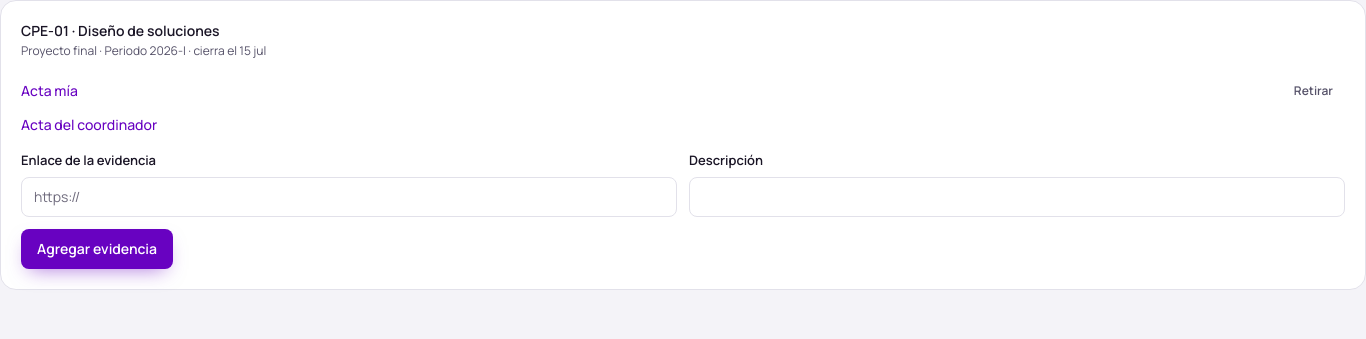
TarjetaEvaluacion — foco y confirmación › el error de un retiro anterior se quita al abrir otra confirmación
Click the button with aria-label "Retirar Acta mía" at (1313, 91), box x1=1282 y1=75 x2=1345 y2=107
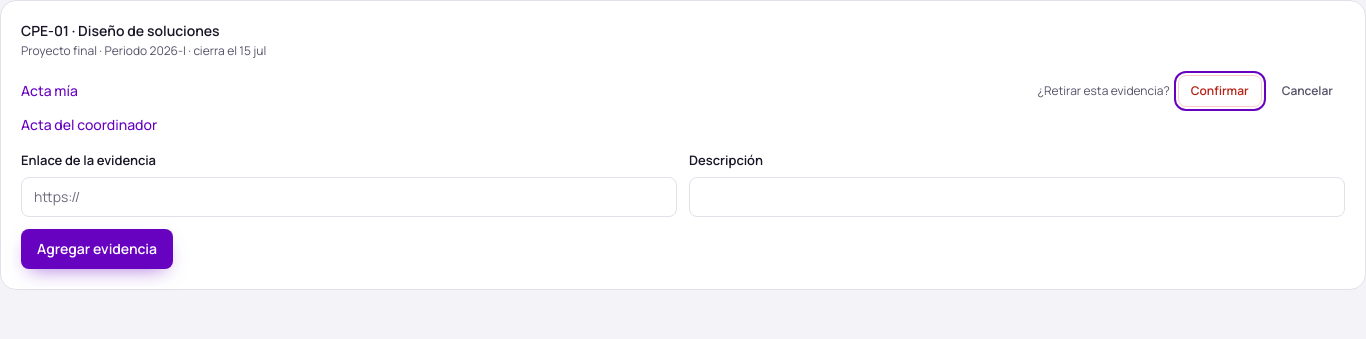
Click the button "Confirmar" at (1220, 91), box x1=1178 y1=75 x2=1262 y2=107
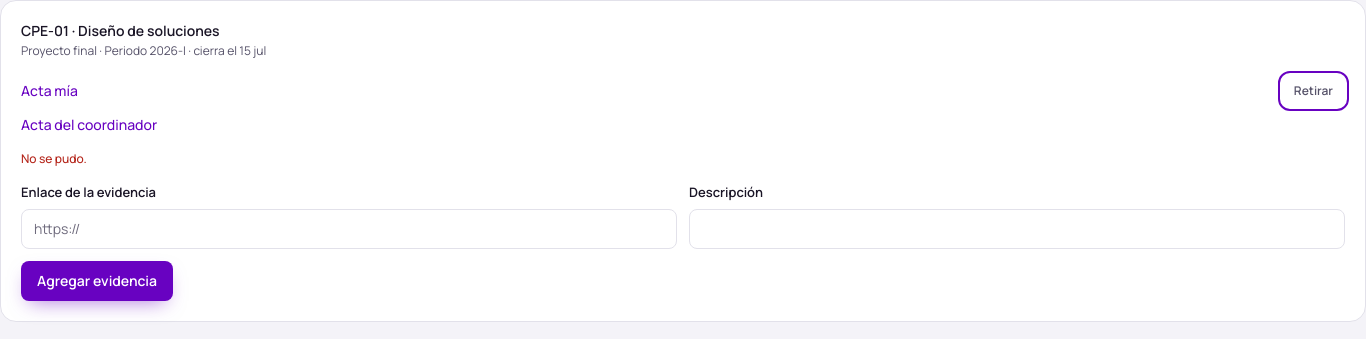
Expected: the message reads "No se pudo.", x1=21 y1=150 x2=87 y2=167
Click the button with aria-label "Retirar Acta mía" at (1313, 91), box x1=1282 y1=75 x2=1345 y2=107
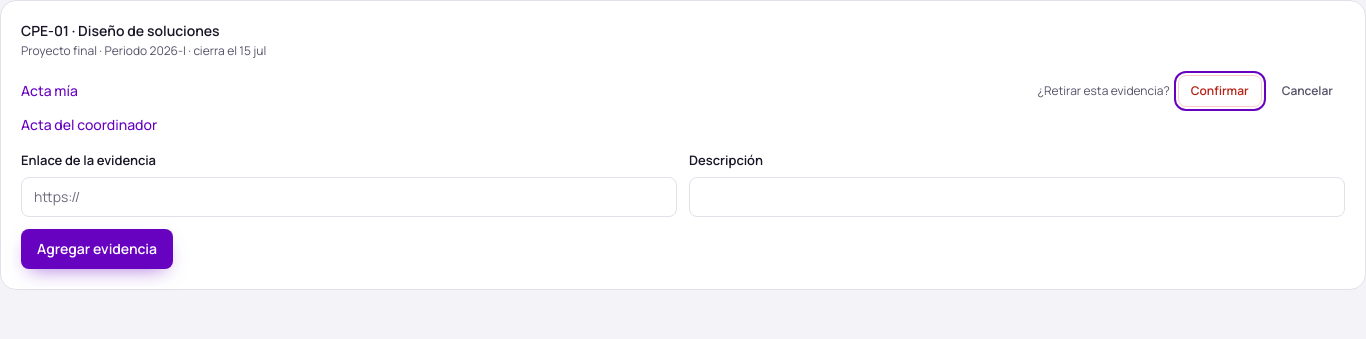
Expected: the message "No se pudo." is gone
